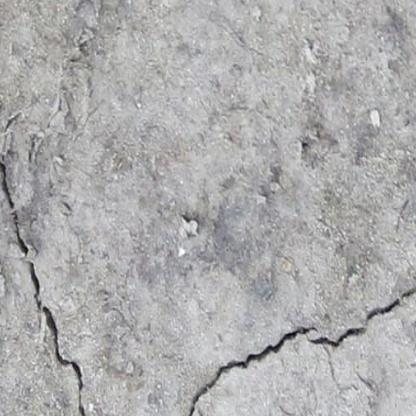Cracks: (170, 270, 416, 416), (0, 133, 106, 416)
